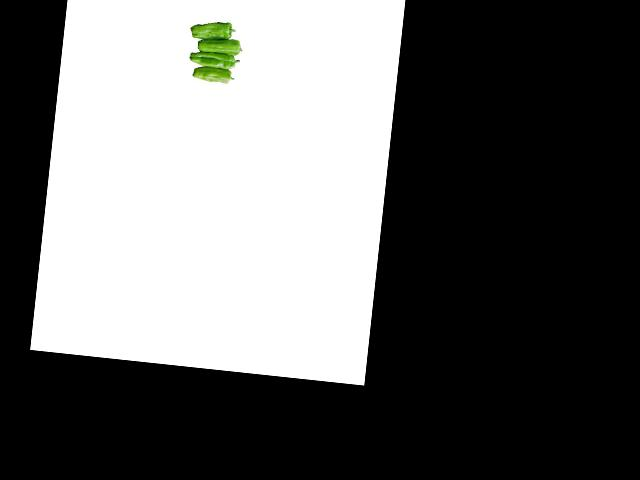bell_pepper: (186, 18, 238, 43)
